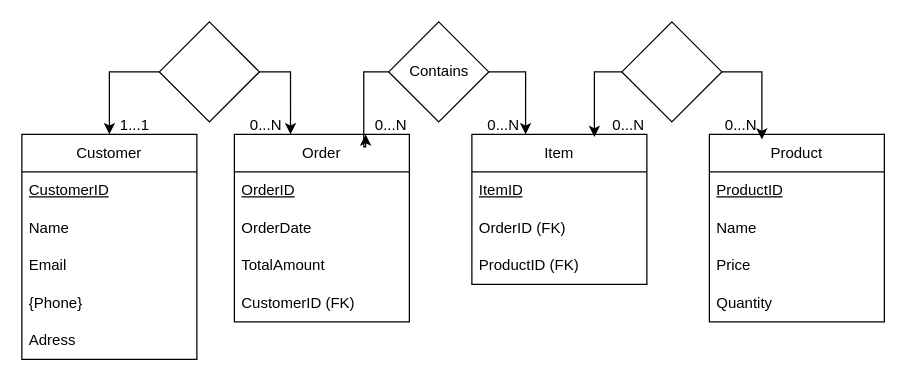
Some shapes in this 906 by 381 pixel diagram are drawn without their labels. The centre of each missing label's shape, as x and y in pixels:
Places: the point at 208,71
Refers: the point at 671,71
